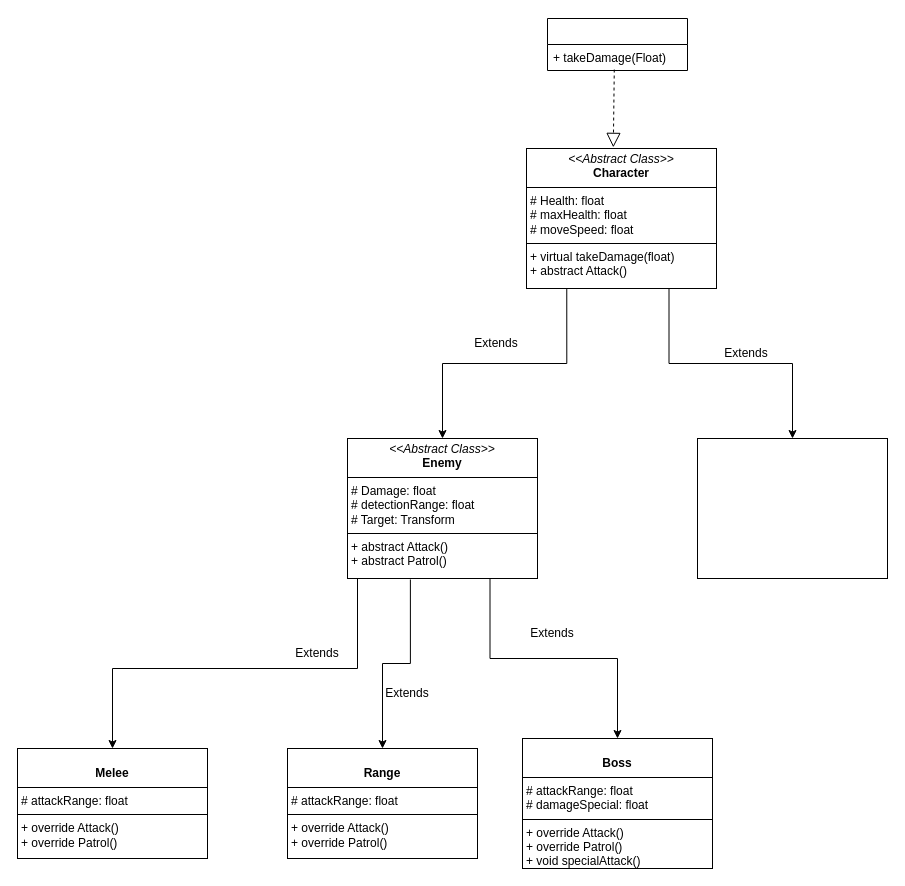
Some shapes in this 905 by 886 pixel diagram are drawn without their labels. The shapes that lost their labels are listed below. From the top down, each one's box as (x1, y1, x2, y2) in pixels, then its label:
(546, 18, 688, 70): <<Interface>> DamageAble
(696, 438, 888, 578): Player # damage: float + override Attack() + void movement ()
